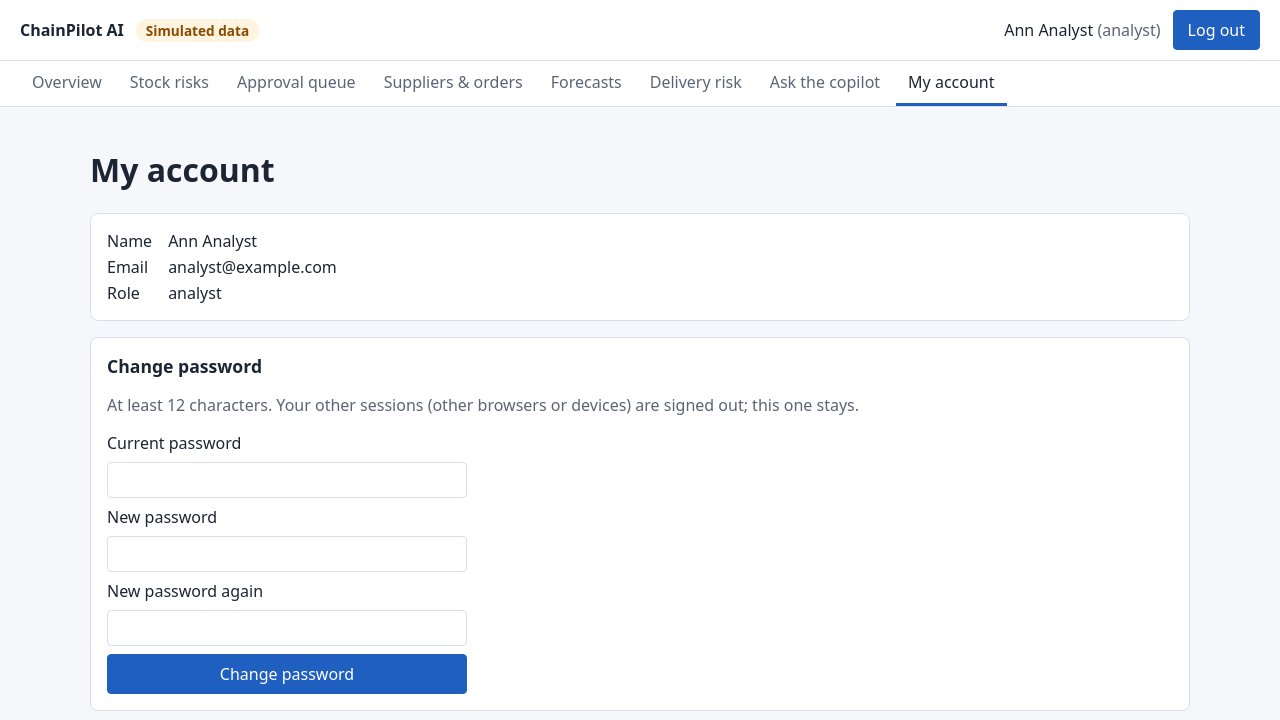
Test: my account › shows the API's answer to a wrong current password
This screenshot has width=1280, height=720.
Check: the heading "My account" is shown, box [90,148,275,191]
Type "wrong-password-1" into the password field labelled "Current password" at (287, 480), box [107,462,467,498]
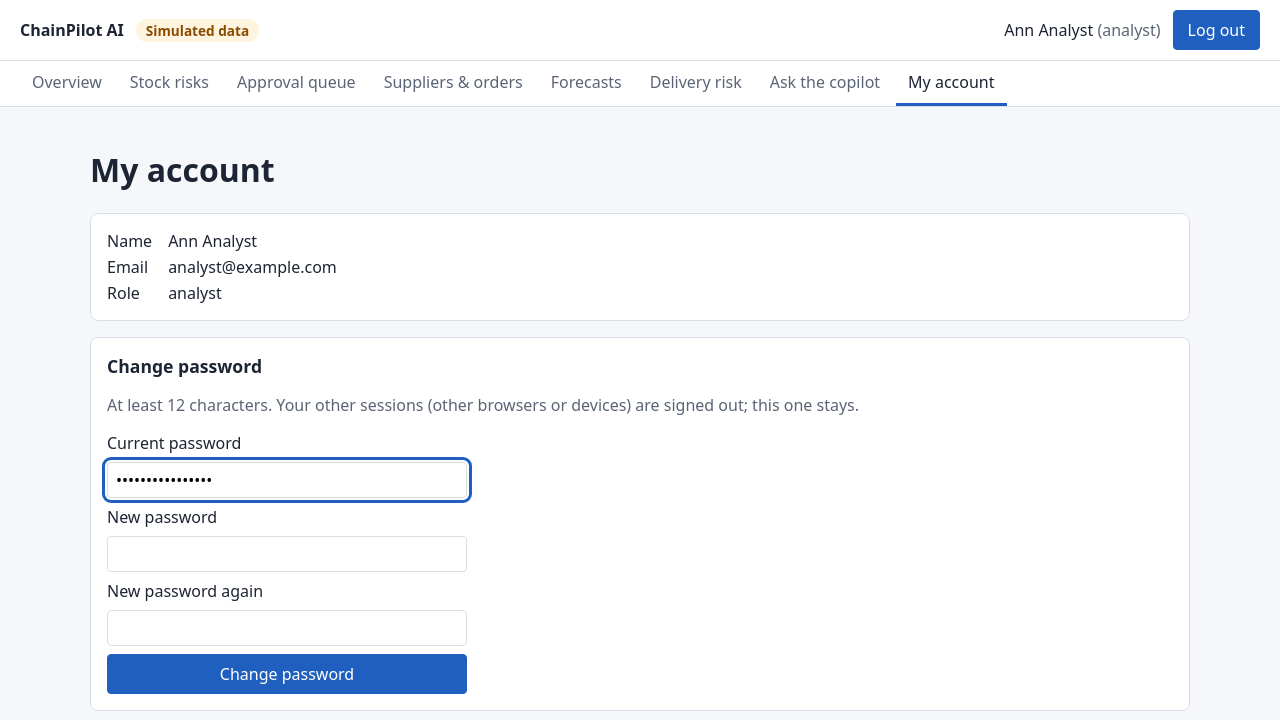
Type "a-brand-new-password" into the password field labelled "New password" at (287, 554), box [107,536,467,572]
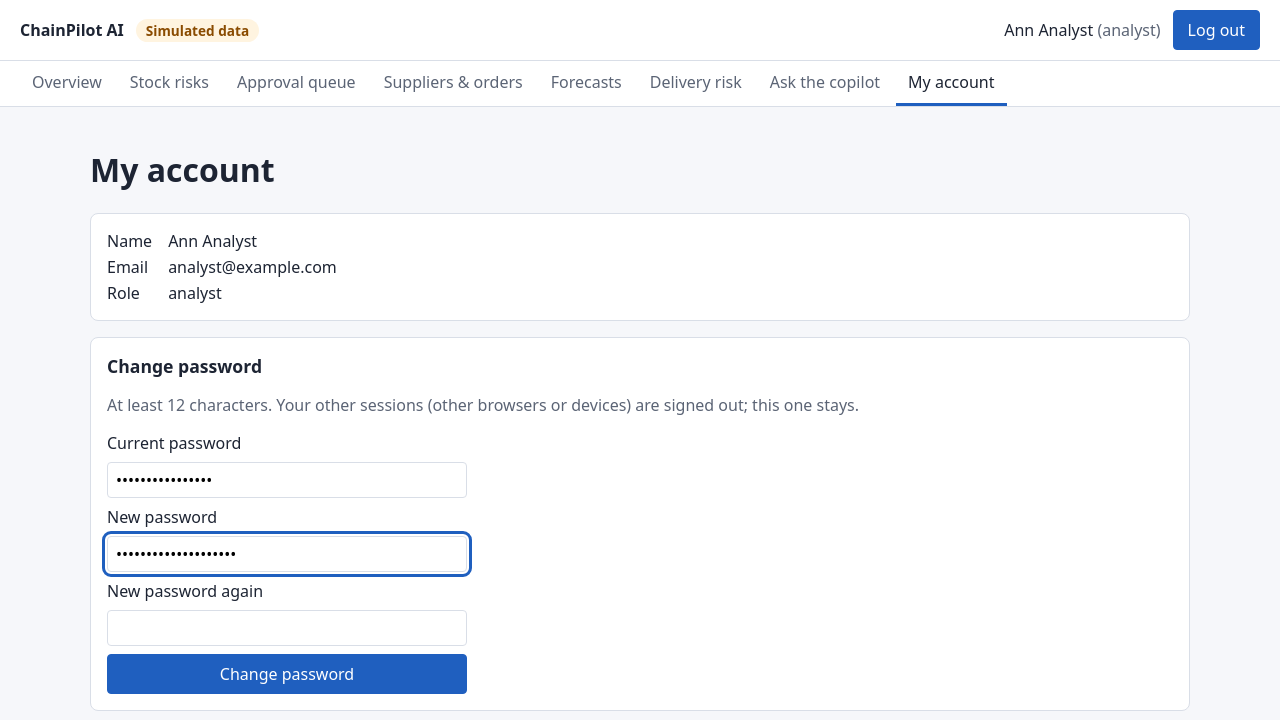
Type "a-brand-new-password" into the password field labelled "New password again" at (287, 628), box [107,610,467,646]
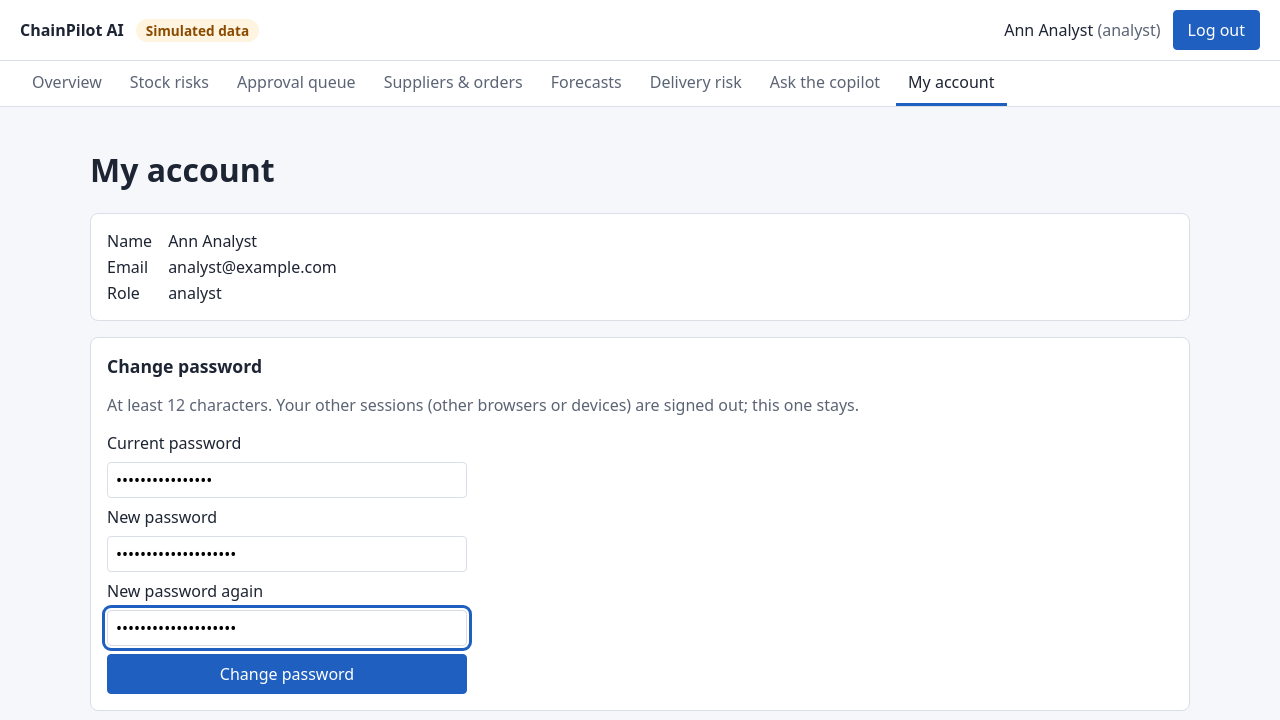
Click the button "Change password" at (287, 674), box [107,654,467,694]
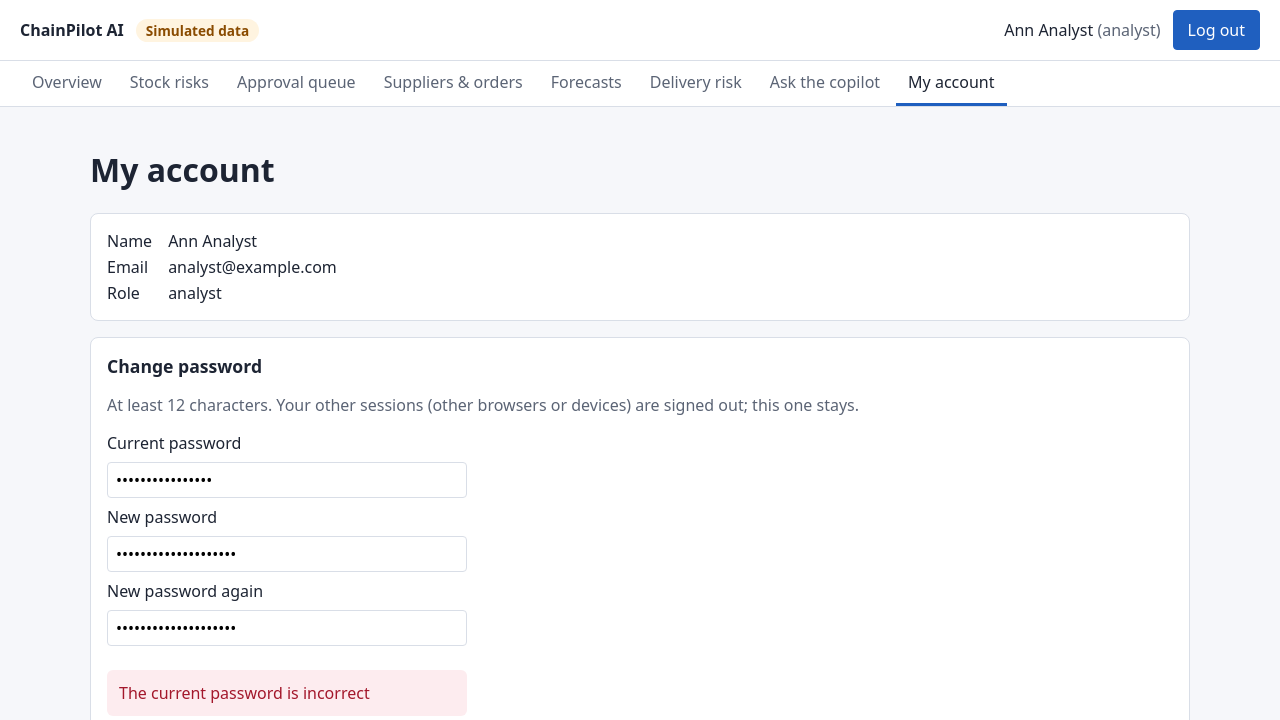
Check: the message reads "The current password is incorrect", box [119,682,370,704]
